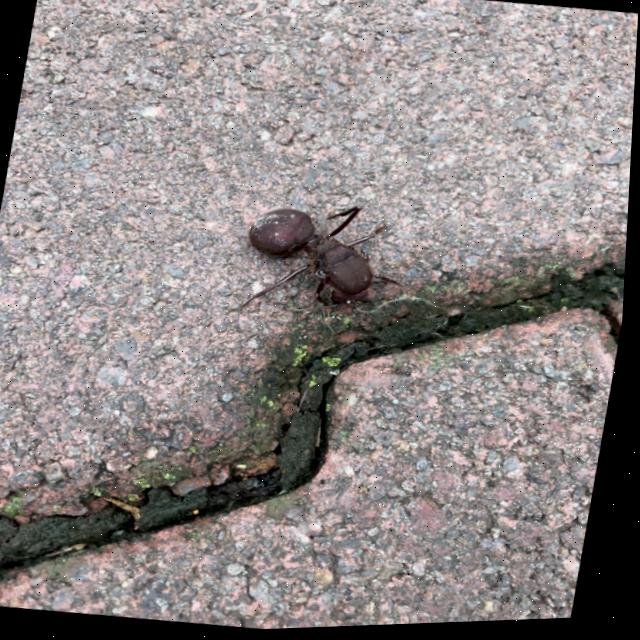Alive-Female-Dealate: (232, 194, 421, 330)
